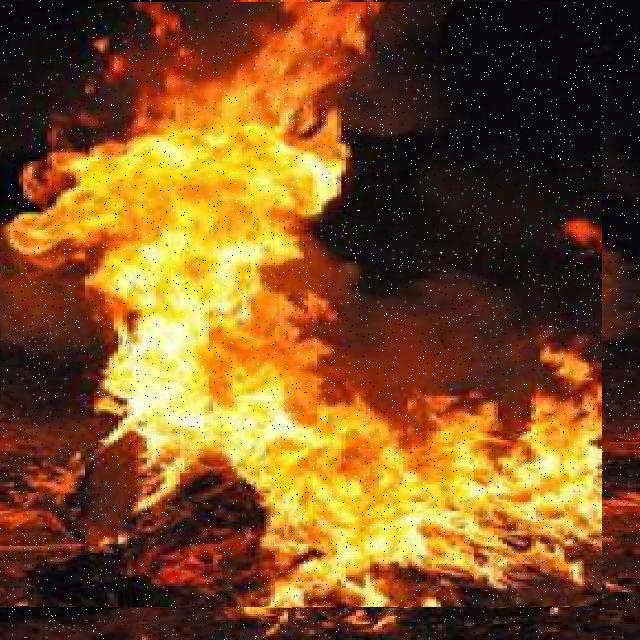fire: (0, 2, 602, 607)
